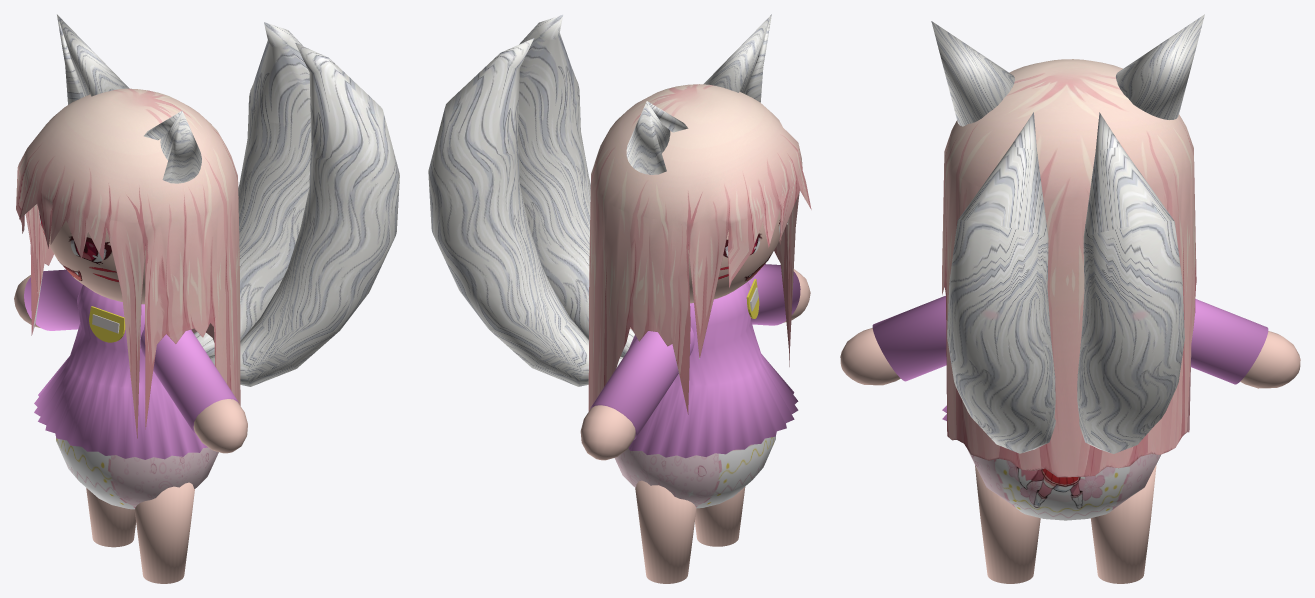
File: alizadiaperdoll.glb
3 renders of one model, left to right at view 1: azimuth 30°, elevation 25°; view 2: azimuth 150°, elevation 25°; view 3: azimuth 270°, elevation 25°, orthographic. The views are drawn at different scales.
Visible parts, largest first — view 1: head.001, Cylinder.002, head, Cylinder.003, dress, diaper, Cone, Cone.001, Cylinder; view 2: head.001, Cylinder.003, head, Cylinder.002, dress, diaper, Cone, Cone.001; view 3: head.001, Cylinder.002, Cylinder.003, head, diaper, Cone, Cone.001.
Boxes of the visible parts, left/top/right/bottom form: head.001: left=16, top=88, right=240, bottom=438; Cylinder.002: left=209, top=43, right=399, bottom=386; head: left=14, top=211, right=247, bottom=583; Cylinder.003: left=193, top=22, right=311, bottom=356; dress: left=34, top=285, right=207, bottom=459; diaper: left=56, top=437, right=218, bottom=509; Cone: left=57, top=14, right=129, bottom=104; Cone.001: left=144, top=110, right=201, bottom=183; Cylinder: left=89, top=306, right=125, bottom=342; head.001: left=588, top=84, right=811, bottom=414; Cylinder.003: left=428, top=38, right=623, bottom=386; head: left=580, top=210, right=810, bottom=583; Cylinder.002: left=518, top=14, right=634, bottom=357; dress: left=628, top=282, right=798, bottom=458; diaper: left=614, top=436, right=775, bottom=508; Cone: left=626, top=101, right=688, bottom=174; Cone.001: left=703, top=14, right=771, bottom=102; head.001: left=942, top=59, right=1196, bottom=477; Cylinder.002: left=947, top=112, right=1055, bottom=453; Cylinder.003: left=1077, top=112, right=1184, bottom=453; head: left=840, top=295, right=1300, bottom=583; diaper: left=968, top=450, right=1160, bottom=520; Cone: left=1116, top=14, right=1204, bottom=119; Cone.001: left=931, top=21, right=1014, bottom=126.
Bounding box in the file's own units: 4.22 × 6.27 × 4.75.
9 materials, 5 textured.
